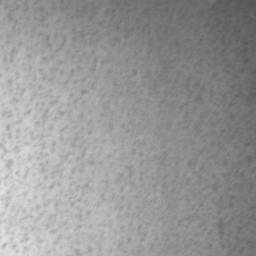Pitted surface: (4, 48, 17, 62), (217, 219, 224, 238), (42, 109, 48, 123), (247, 153, 256, 162), (6, 159, 13, 169)
